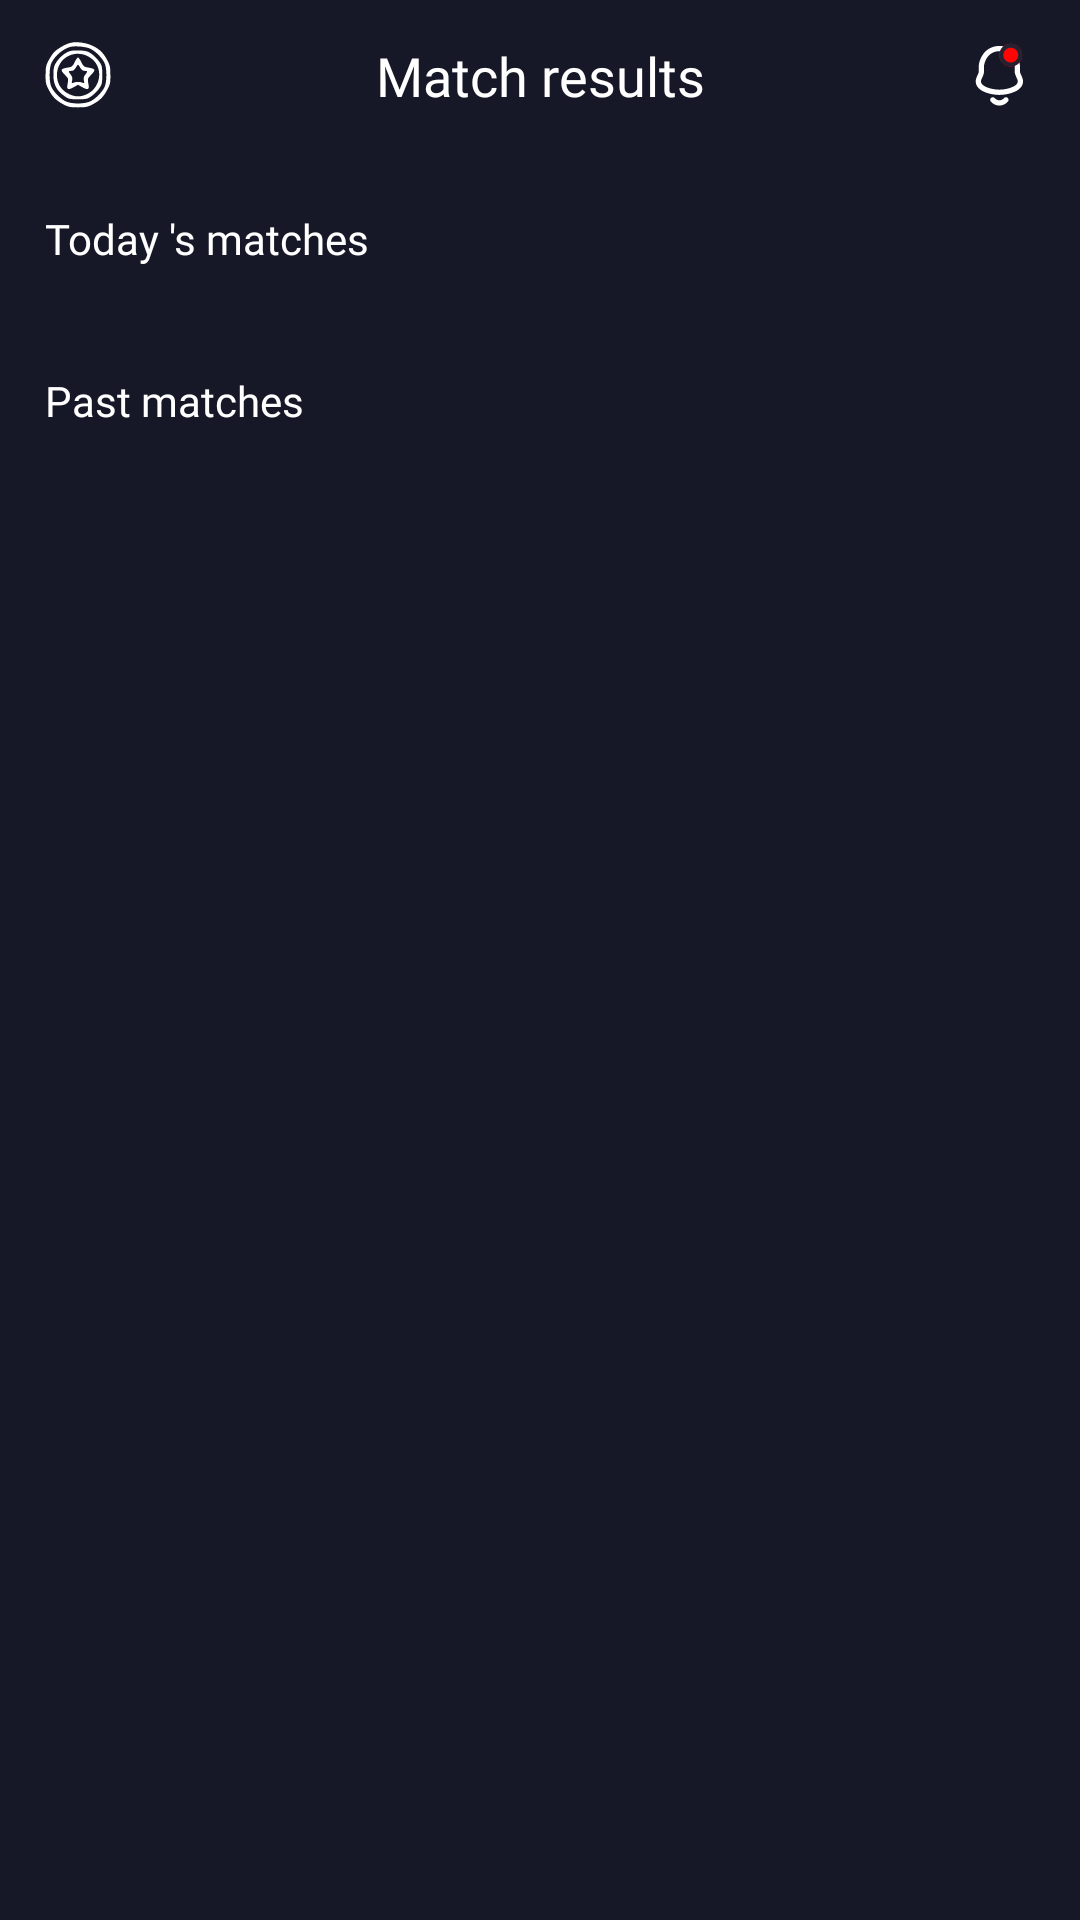

Named icons in this screenshot (1080 x 1920) and their centers, (x,y):
coin: (78,75)
notification: (999,74)
